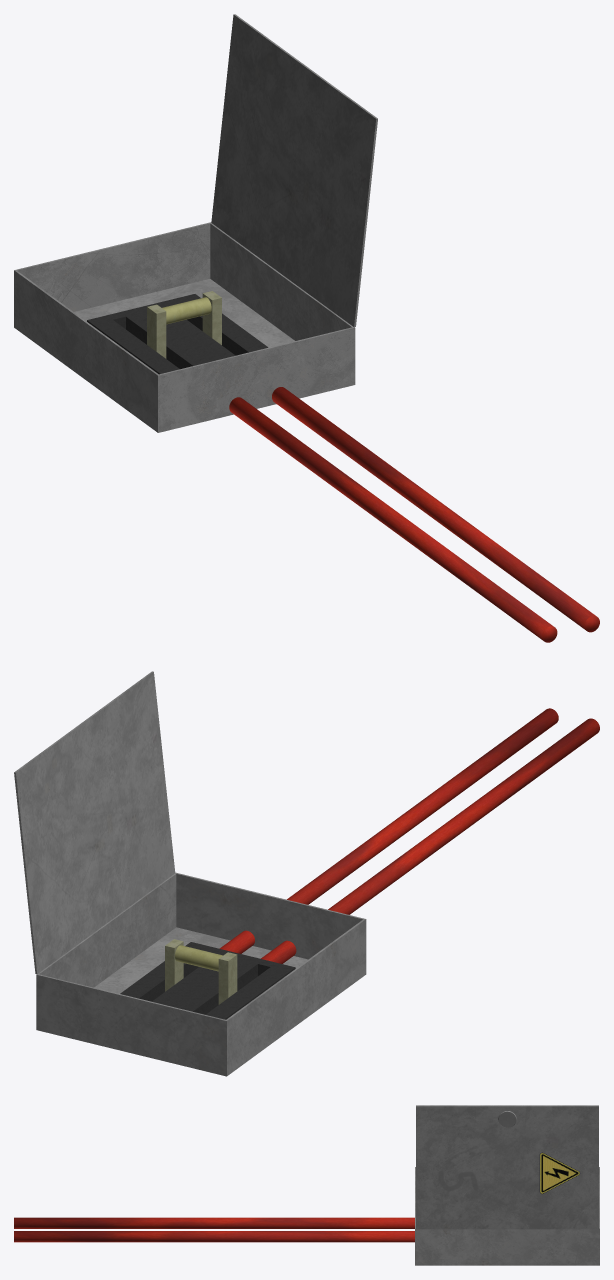
Rendered from ele_omarica.obj.
3 views of the same model, one above another, from view 1: azimuth 30°, elevation 25°; view 2: azimuth 150°, elevation 25°; view 3: azimuth 270°, elevation 25° (orthographic). The views are drawn at different scales.
Visible parts, largest first — view 1: el_omarica_ohisje_Cube, el_omarica_vrata_Cube.001, el_omarica_zica_Cylinder.001, el_omarica_zica.001_Cylinder.002, el_omarica_stikalo_Cube.002, el_omarica_rocica_Cube.007; view 2: el_omarica_ohisje_Cube, el_omarica_vrata_Cube.001, el_omarica_zica_Cylinder.001, el_omarica_zica.001_Cylinder.002, el_omarica_stikalo_Cube.002, el_omarica_rocica_Cube.007; view 3: el_omarica_vrata_Cube.001, el_omarica_ohisje_Cube, el_omarica_zica.001_Cylinder.002, el_omarica_zica_Cylinder.001.
Boxes of the visible parts, x1,y1,x2,y2 form: el_omarica_ohisje_Cube: [14, 222, 355, 432]; el_omarica_vrata_Cube.001: [211, 14, 377, 327]; el_omarica_zica_Cylinder.001: [229, 397, 557, 642]; el_omarica_zica.001_Cylinder.002: [272, 387, 599, 632]; el_omarica_stikalo_Cube.002: [87, 294, 268, 374]; el_omarica_rocica_Cube.007: [147, 291, 221, 358]; el_omarica_ohisje_Cube: [36, 872, 366, 1076]; el_omarica_vrata_Cube.001: [14, 671, 175, 973]; el_omarica_zica_Cylinder.001: [261, 718, 599, 963]; el_omarica_zica.001_Cylinder.002: [219, 708, 558, 953]; el_omarica_stikalo_Cube.002: [120, 942, 295, 1019]; el_omarica_rocica_Cube.007: [165, 939, 237, 1004]; el_omarica_vrata_Cube.001: [416, 1105, 598, 1229]; el_omarica_ohisje_Cube: [415, 1167, 599, 1265]; el_omarica_zica.001_Cylinder.002: [14, 1231, 414, 1242]; el_omarica_zica_Cylinder.001: [14, 1217, 414, 1228].
Size of the model in its own units: 0.3361 by 0.3785 by 1.2.
5 materials, 5 textured.
